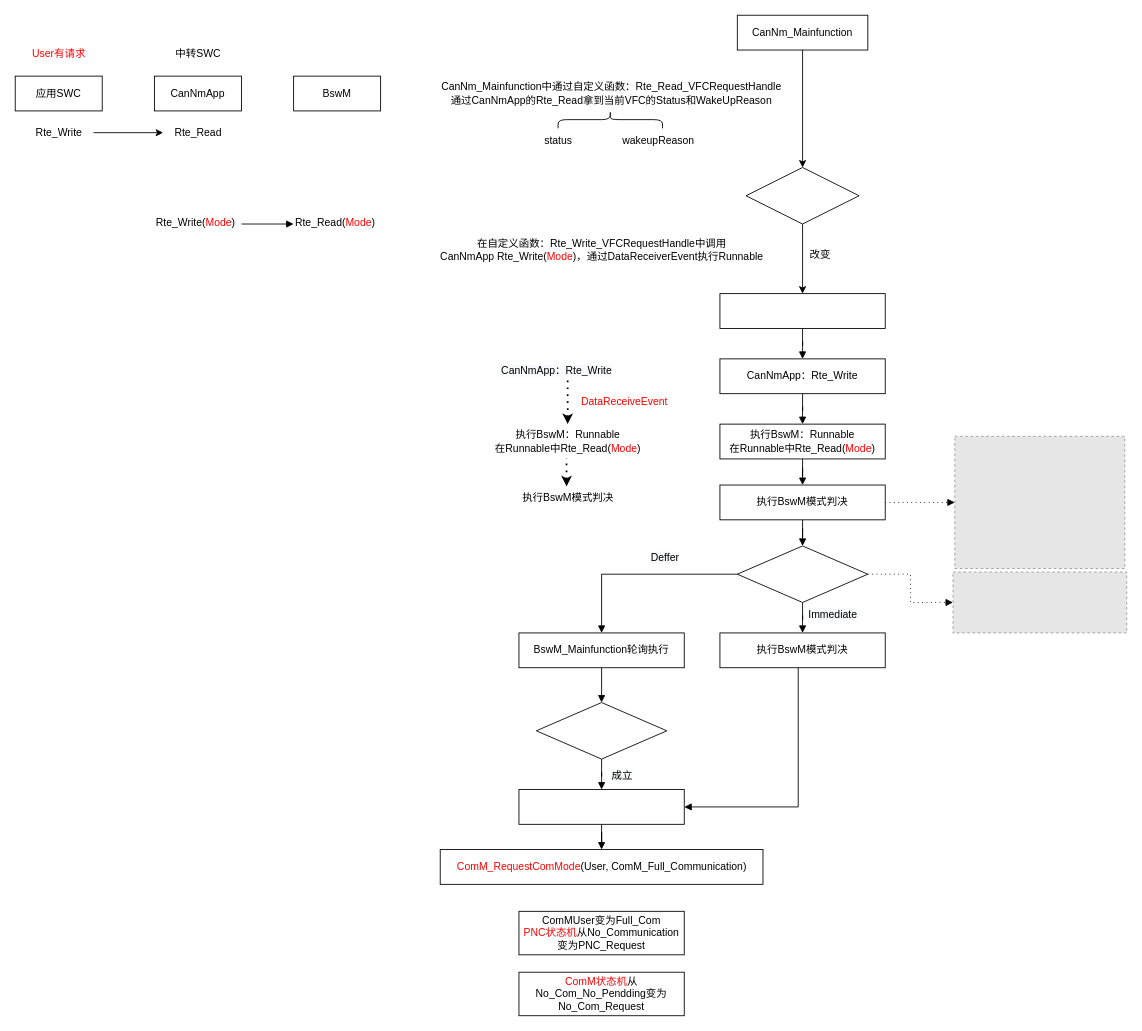
This 1142x1031 diagram has some shape labels left out. Grey dashed boxes stand in for pictures. Each missing label, with the centre of its shape:
Deffer Rule是否成立: point 601,730
Deffer还是Immediate: point 802,573
Rte_Write_VFCRequestHandle: point 802,310
VFC status是否改变: point 802,195
执行Action: point 601,806
